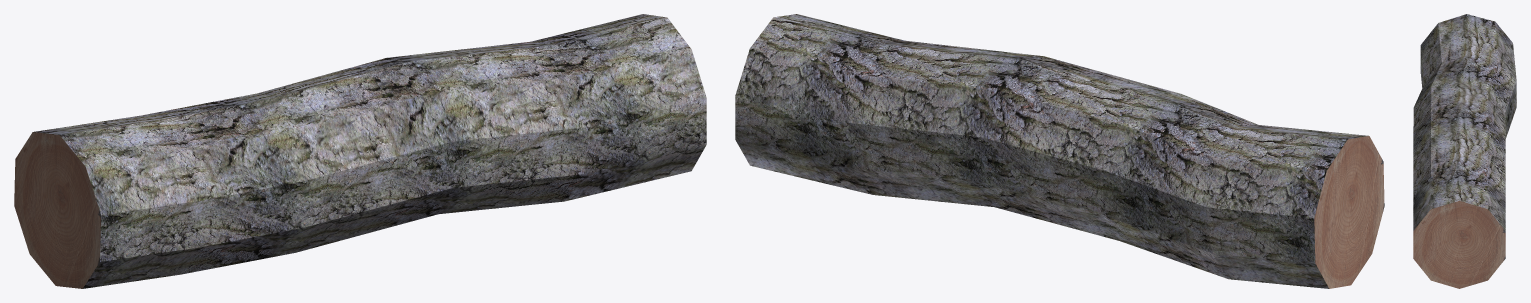
File: Log Low Poly.FBX
The picture shows the model from 3 angles, left to right: view 1: azimuth 30°, elevation 25°; view 2: azimuth 150°, elevation 25°; view 3: azimuth 270°, elevation 25°; orthographic projection. The views are drawn at different scales.
Visible parts, largest first — view 1: Cylinder001; view 2: Cylinder001; view 3: Cylinder001.
Part boxes in pixels (bbox=[...]): Cylinder001: bbox=[14, 14, 706, 288]; Cylinder001: bbox=[735, 14, 1384, 288]; Cylinder001: bbox=[1413, 14, 1516, 288].
Bounding box in the file's own units: 1016 × 279 × 256.
Materials: 1 (1 with a texture image).
